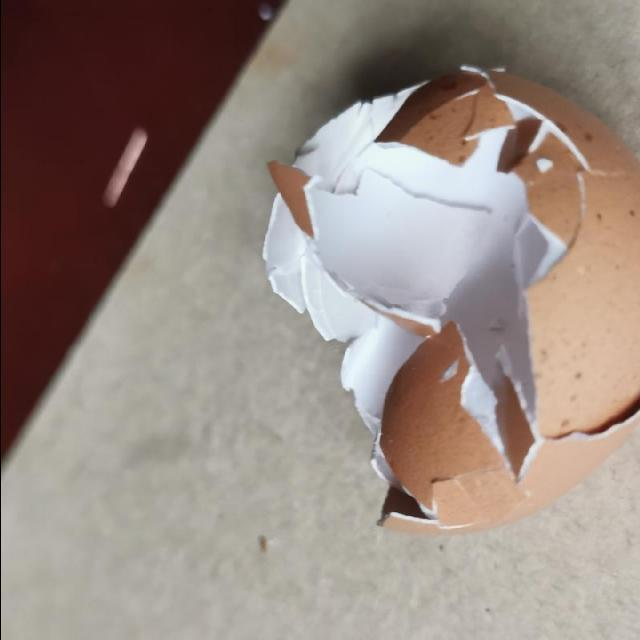egg shell: (256, 63, 639, 540)
